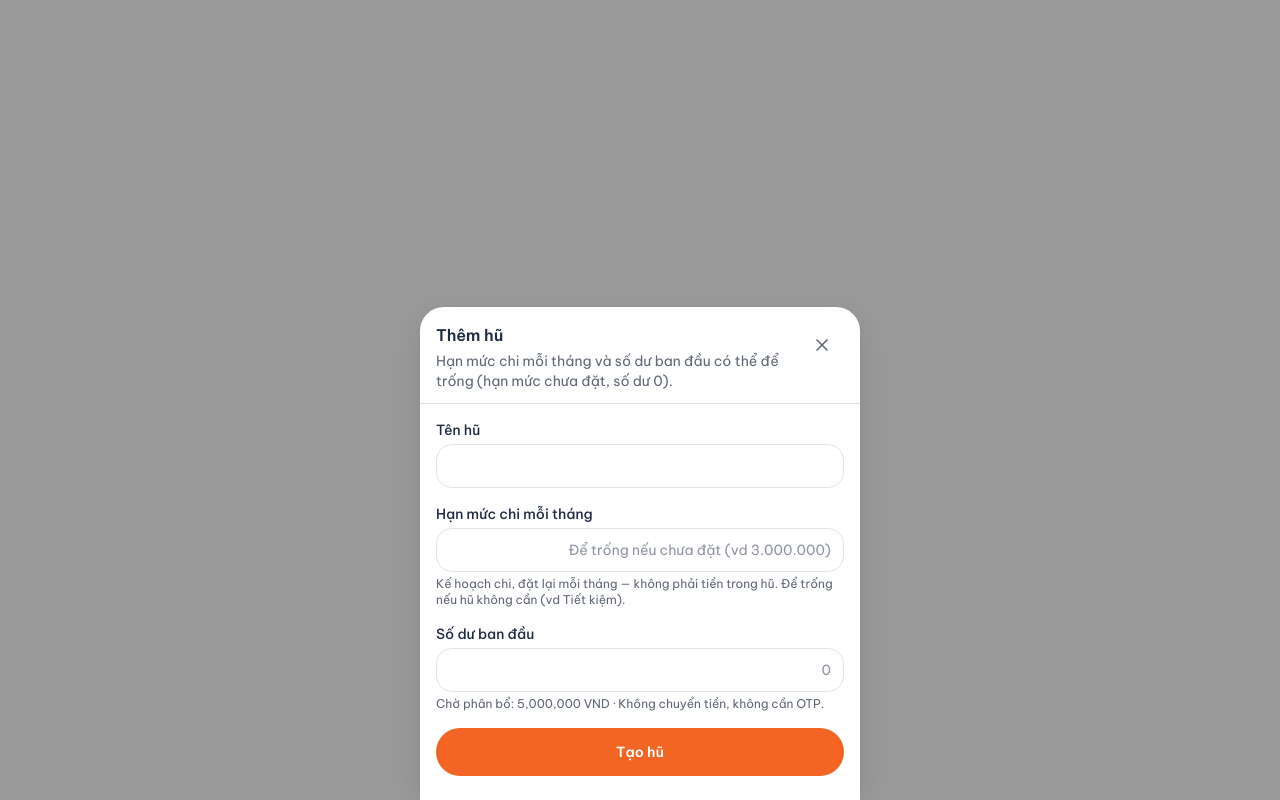
it: HuCreateSheet — validation › rejects an opening balance above Chờ phân bổ
The width and height of the screenshot is (1280, 800).
Type "Du lịch" into the field named "Tên hũ mới". click: [640, 466]
box: [436,444,844,488]
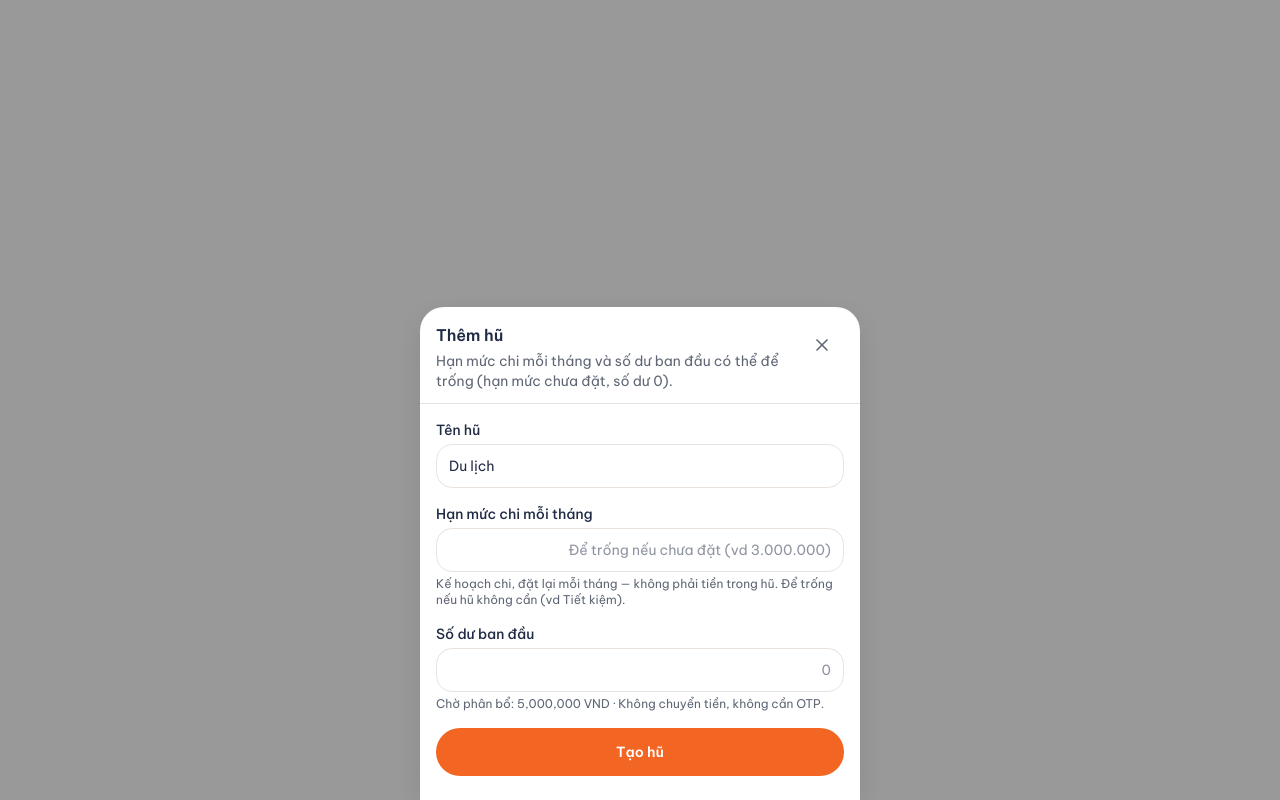
Type "2.000.000" into the field labelled "Hạn mức chi mỗi tháng". click: [640, 550]
box: [436,528,844,572]
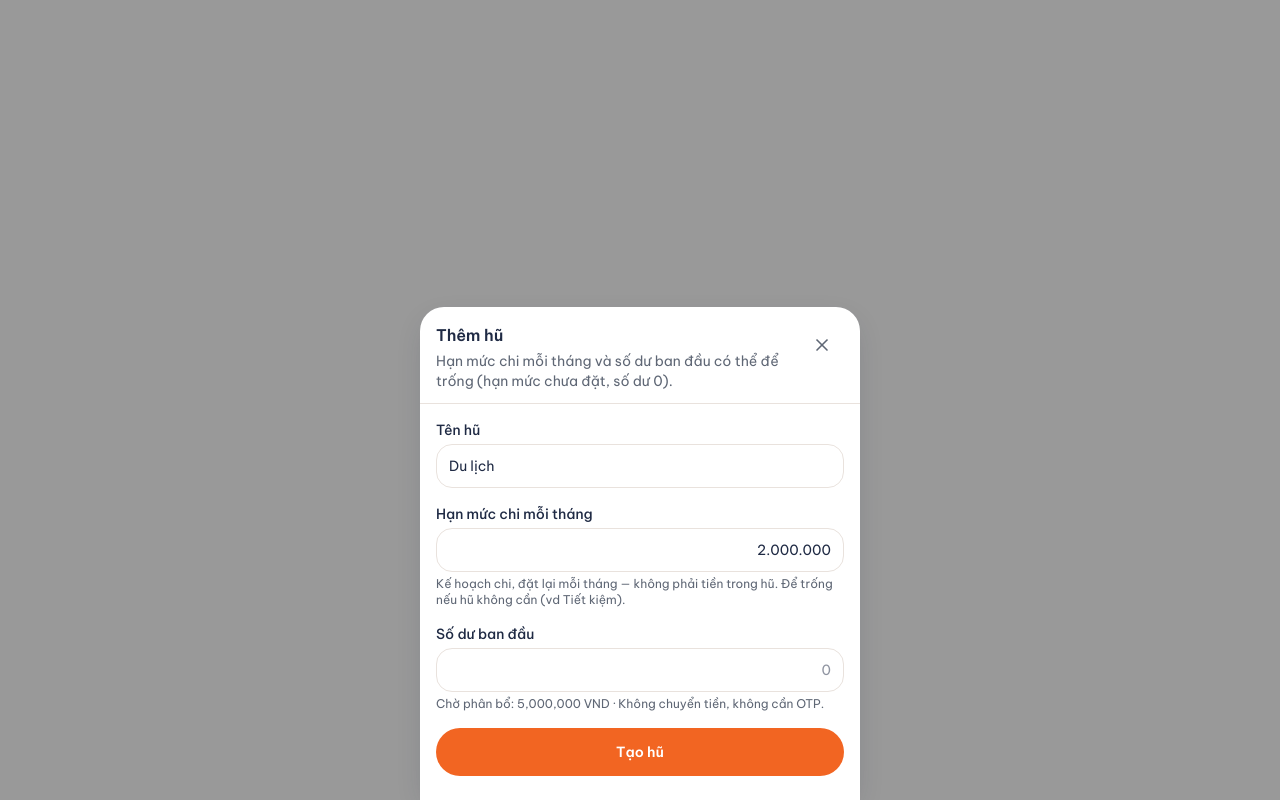
Type "6.000.000" into the field labelled "Số dư ban đầu". click: [640, 670]
box: [436,648,844,692]
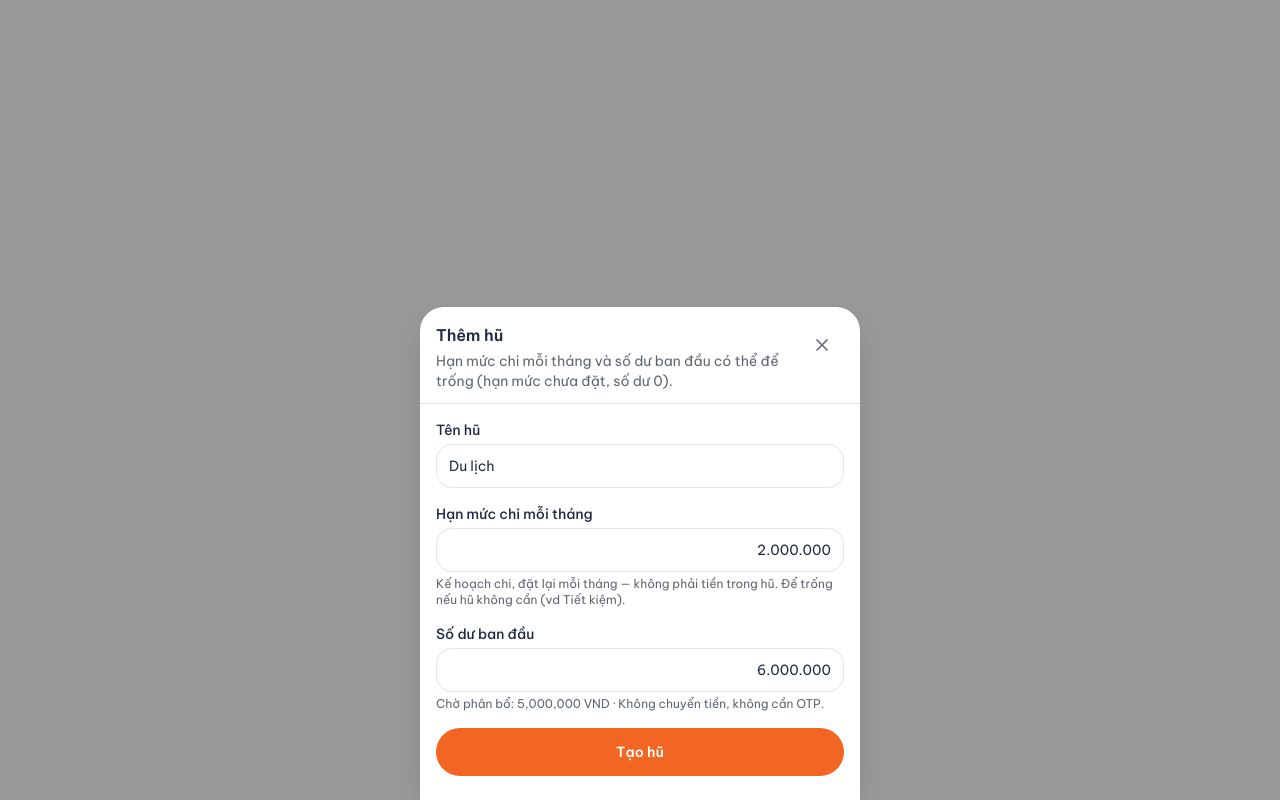
Click the button "Tạo hũ". click: [640, 752]
box: [436,728,844,776]
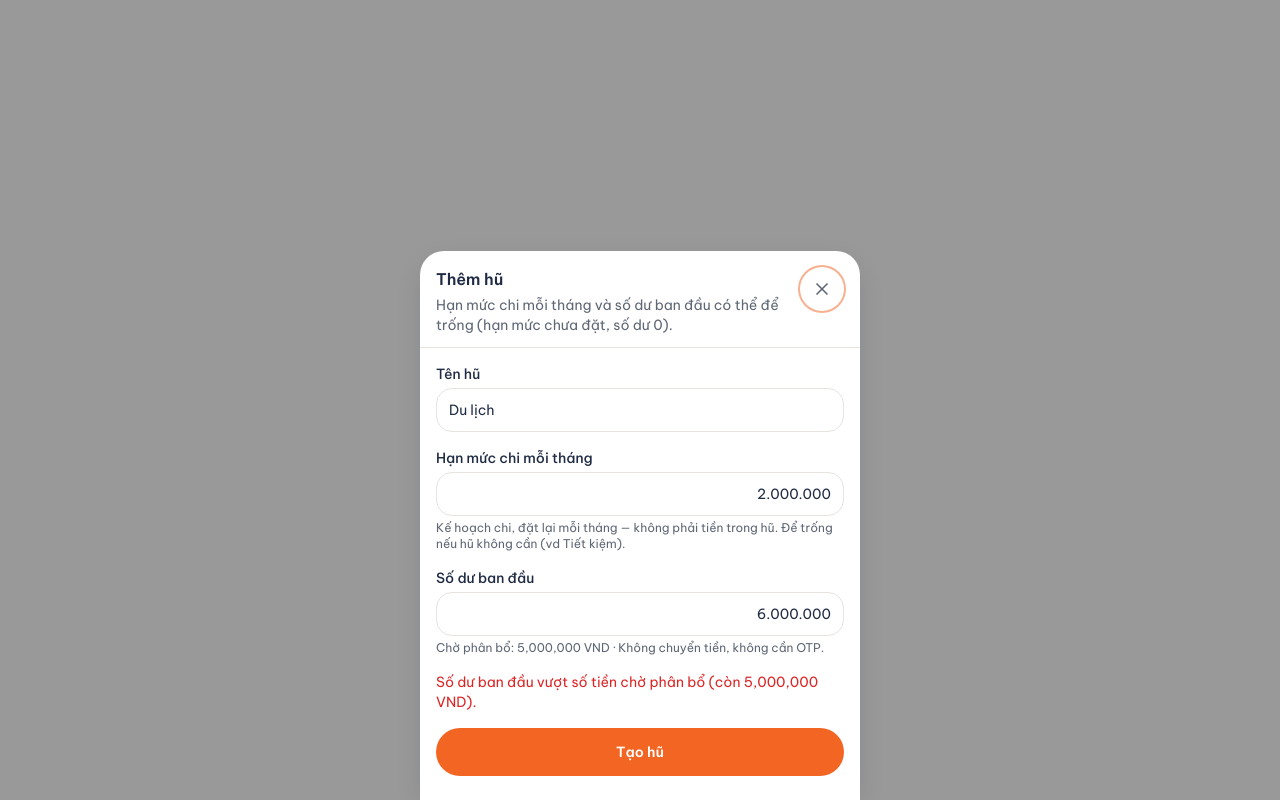
Expected: the message shows "Số dư ban đầu vượt số tiền chờ phân bổ (còn 5,000,000", [436,673,818,711]
